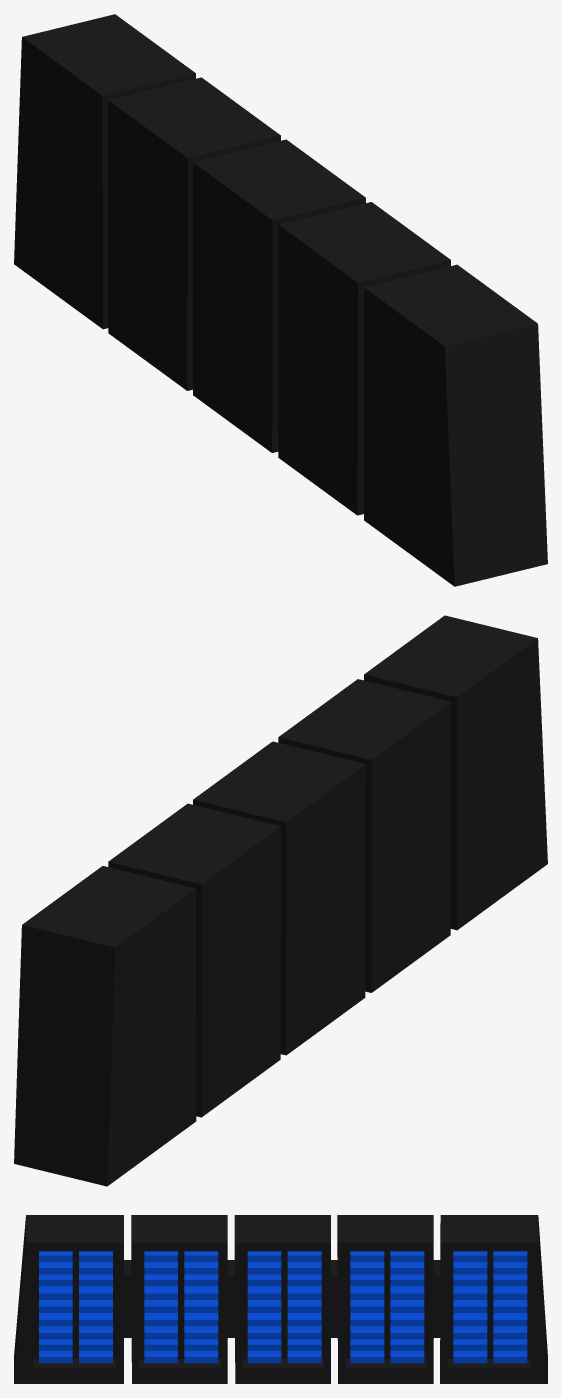
Rendered from FullServer.fbx.
The picture shows the model from 3 angles, top to bottom: view 1: azimuth 30°, elevation 25°; view 2: azimuth 150°, elevation 25°; view 3: azimuth 270°, elevation 25°; orthographic projection. The views are drawn at different scales.
Parts seen in each view (by area): view 1: pCube102; view 2: pCube102; view 3: pCube102.
Part boxes in pixels (x1=…): pCube102: x1=14, y1=14, x2=547, y2=586; pCube102: x1=14, y1=615, x2=547, y2=1186; pCube102: x1=14, y1=1215, x2=547, y2=1383.
Bounding box in the file's own units: 4.82 × 11.51 × 39.45.
